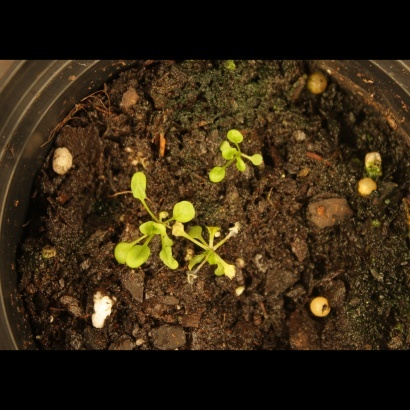leaf: (126, 169, 154, 204), (157, 240, 182, 271), (171, 195, 197, 224), (139, 216, 168, 239), (127, 245, 151, 270), (205, 252, 228, 278), (206, 165, 229, 188), (250, 146, 273, 169), (229, 160, 252, 183), (227, 123, 250, 146), (215, 138, 238, 161), (112, 242, 135, 265), (173, 223, 196, 246), (186, 223, 209, 246), (205, 220, 228, 243), (221, 260, 244, 283), (187, 252, 210, 275)
